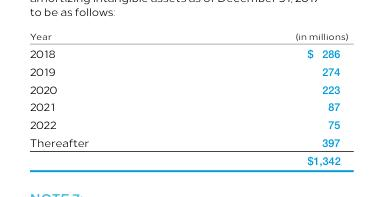table: (28, 28, 347, 166)
table column: (28, 28, 191, 166), (191, 28, 347, 166)
table column header: (28, 28, 347, 42)
table row: (28, 132, 347, 151), (28, 42, 347, 60), (28, 60, 347, 78), (28, 78, 347, 96), (28, 96, 347, 114), (28, 114, 347, 132), (28, 151, 347, 166), (28, 28, 347, 42)
